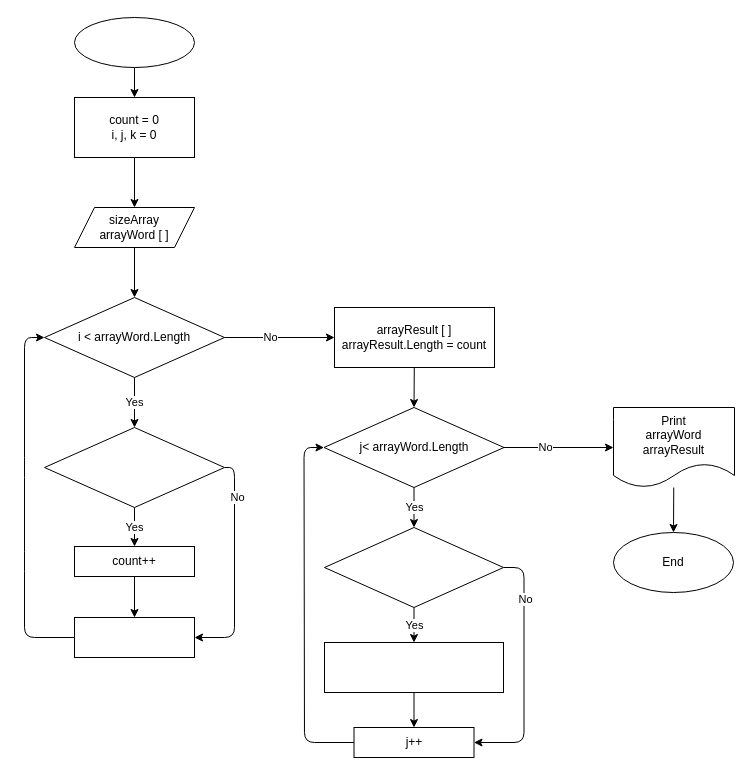
This 752x775 diagram has some shape labels left out. Each missing label, with the box of its shape:
arrayResult [k] = arrayWord [j] k++: (324, 642, 504, 692)
arrayWord [i] length <=3: (44, 426, 224, 508)
arrayWord [j] length <= 3: (324, 526, 504, 608)
i++: (74, 616, 194, 658)
Start: (74, 16, 194, 68)
